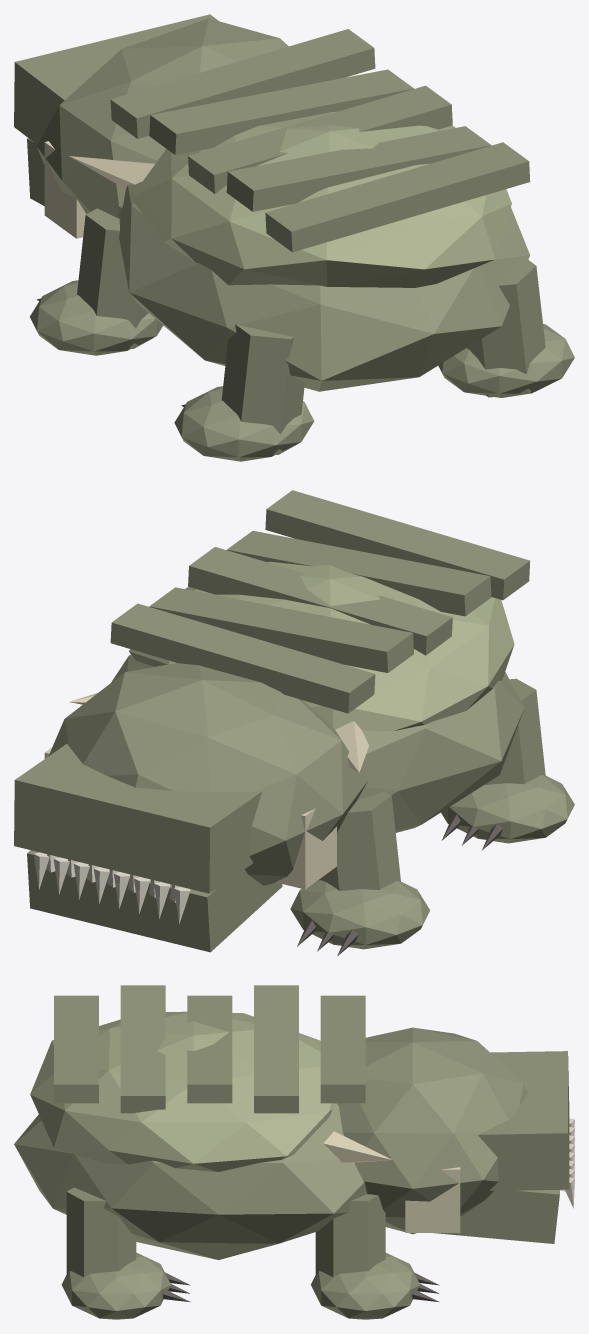
The model's file is 01_gnarl_maw.glb.
3 renders of one model, top to bottom at view 1: azimuth 30°, elevation 25°; view 2: azimuth 150°, elevation 25°; view 3: azimuth 270°, elevation 25°, orthographic. The views are drawn at different scales.
Visible parts, largest first — view 1: gnarl_maw_blocky_torso, gnarl_maw_leathery_hump, gnarl_maw_overdeveloped_head, gnarl_maw_thick_leather_back_plate_4, gnarl_maw_thick_leather_back_plate_0, gnarl_maw_thick_leather_back_plate_1, gnarl_maw_thick_leather_back_plate_3, gnarl_maw_thick_leather_back_plate_2, gnarl_maw_stumpy_leg_-1_1, gnarl_maw_upper_jaw_steel_gnawer, gnarl_maw_braced_paw_-1_1, gnarl_maw_braced_paw_-1_0 (+6 smaller); view 2: gnarl_maw_overdeveloped_head, gnarl_maw_upper_jaw_steel_gnawer, gnarl_maw_leathery_hump, gnarl_maw_blocky_torso, gnarl_maw_thick_leather_back_plate_0, gnarl_maw_lower_jaw_latch_plate, gnarl_maw_thick_leather_back_plate_4, gnarl_maw_thick_leather_back_plate_1, gnarl_maw_thick_leather_back_plate_3, gnarl_maw_thick_leather_back_plate_2, gnarl_maw_braced_paw_-1_0, gnarl_maw_braced_paw_-1_1 (+4 smaller); view 3: gnarl_maw_blocky_torso, gnarl_maw_leathery_hump, gnarl_maw_overdeveloped_head, gnarl_maw_upper_jaw_steel_gnawer, gnarl_maw_thick_leather_back_plate_1, gnarl_maw_thick_leather_back_plate_3, gnarl_maw_thick_leather_back_plate_0, gnarl_maw_thick_leather_back_plate_4, gnarl_maw_stumpy_leg_1_1, gnarl_maw_braced_paw_1_0, gnarl_maw_braced_paw_1_1, gnarl_maw_lower_jaw_latch_plate (+4 smaller).
Part boxes in pixels (box(x1,y1,x2,y2)): gnarl_maw_blocky_torso: box(119, 181, 529, 391); gnarl_maw_leathery_hump: box(132, 111, 511, 287); gnarl_maw_overdeveloped_head: box(36, 18, 288, 218); gnarl_maw_thick_leather_back_plate_4: box(265, 142, 530, 252); gnarl_maw_thick_leather_back_plate_0: box(110, 29, 375, 138); gnarl_maw_thick_leather_back_plate_1: box(149, 69, 413, 155); gnarl_maw_thick_leather_back_plate_3: box(226, 126, 491, 211); gnarl_maw_thick_leather_back_plate_2: box(188, 85, 452, 193); gnarl_maw_stumpy_leg_-1_1: box(221, 324, 304, 454); gnarl_maw_upper_jaw_steel_gnawer: box(14, 14, 218, 144); gnarl_maw_braced_paw_-1_1: box(174, 386, 314, 461); gnarl_maw_braced_paw_-1_0: box(30, 280, 163, 355); gnarl_maw_overdeveloped_head: box(48, 663, 368, 885); gnarl_maw_upper_jaw_steel_gnawer: box(14, 744, 261, 893); gnarl_maw_leathery_hump: box(129, 561, 514, 731); gnarl_maw_blocky_torso: box(111, 654, 524, 832); gnarl_maw_thick_leather_back_plate_0: box(110, 603, 375, 713); gnarl_maw_lower_jaw_latch_plate: box(27, 850, 282, 952); gnarl_maw_thick_leather_back_plate_4: box(265, 490, 530, 600); gnarl_maw_thick_leather_back_plate_1: box(149, 587, 413, 672); gnarl_maw_thick_leather_back_plate_3: box(227, 530, 491, 616); gnarl_maw_thick_leather_back_plate_2: box(188, 547, 452, 655); gnarl_maw_braced_paw_-1_0: box(290, 879, 429, 949); gnarl_maw_braced_paw_-1_1: box(441, 775, 574, 843); gnarl_maw_blocky_torso: box(14, 1103, 366, 1259); gnarl_maw_leathery_hump: box(30, 1011, 332, 1171); gnarl_maw_overdeveloped_head: box(337, 1027, 527, 1234); gnarl_maw_upper_jaw_steel_gnawer: box(478, 1051, 569, 1190); gnarl_maw_thick_leather_back_plate_1: box(254, 985, 298, 1113); gnarl_maw_thick_leather_back_plate_3: box(120, 985, 165, 1113); gnarl_maw_thick_leather_back_plate_0: box(320, 995, 365, 1103); gnarl_maw_thick_leather_back_plate_4: box(54, 995, 98, 1103); gnarl_maw_stumpy_leg_1_1: box(66, 1187, 136, 1277); gnarl_maw_braced_paw_1_0: box(311, 1253, 419, 1319); gnarl_maw_braced_paw_1_1: box(61, 1252, 170, 1319); gnarl_maw_lower_jaw_latch_plate: box(434, 1190, 559, 1243).
Size of the model in its own units: 1.54 by 0.9737 by 2.25.
